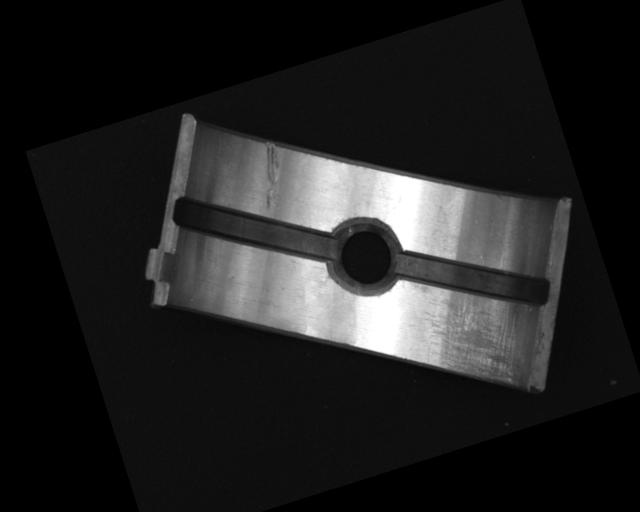gap: (169, 157, 338, 302), (390, 213, 556, 344)
hole: (322, 212, 410, 305)
nick: (245, 137, 296, 211)
scratch: (412, 276, 536, 403)
